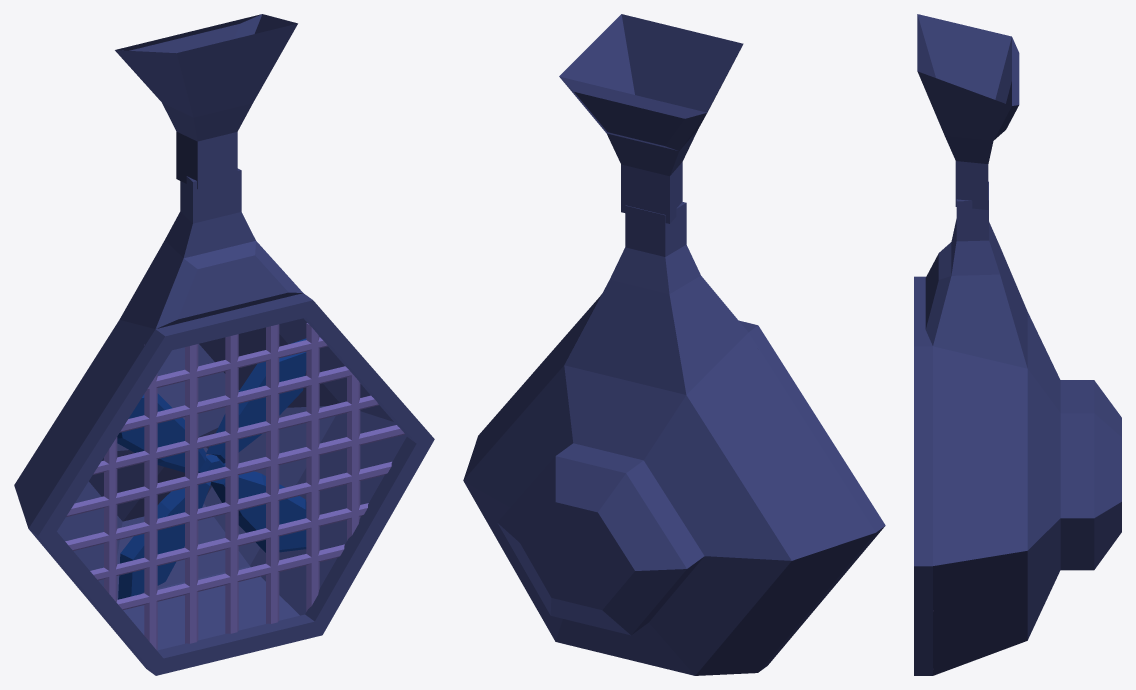
The model's file is Ventilation01.fbx.
3 views of the same model, side by side, from view 1: azimuth 30°, elevation 25°; view 2: azimuth 150°, elevation 25°; view 3: azimuth 270°, elevation 25° (orthographic). The views are drawn at different scales.
Visible parts, largest first — view 1: Ventilation.003, helice-ventilation.003; view 2: Ventilation.003; view 3: Ventilation.003.
Part boxes in pixels (left/top/right/bottom): Ventilation.003: left=14, top=14, right=434, bottom=675; helice-ventilation.003: left=117, top=338, right=306, bottom=599; Ventilation.003: left=463, top=14, right=885, bottom=675; Ventilation.003: left=914, top=14, right=1121, bottom=675.
Size of the model in its own units: 110 by 164 by 51.85.
